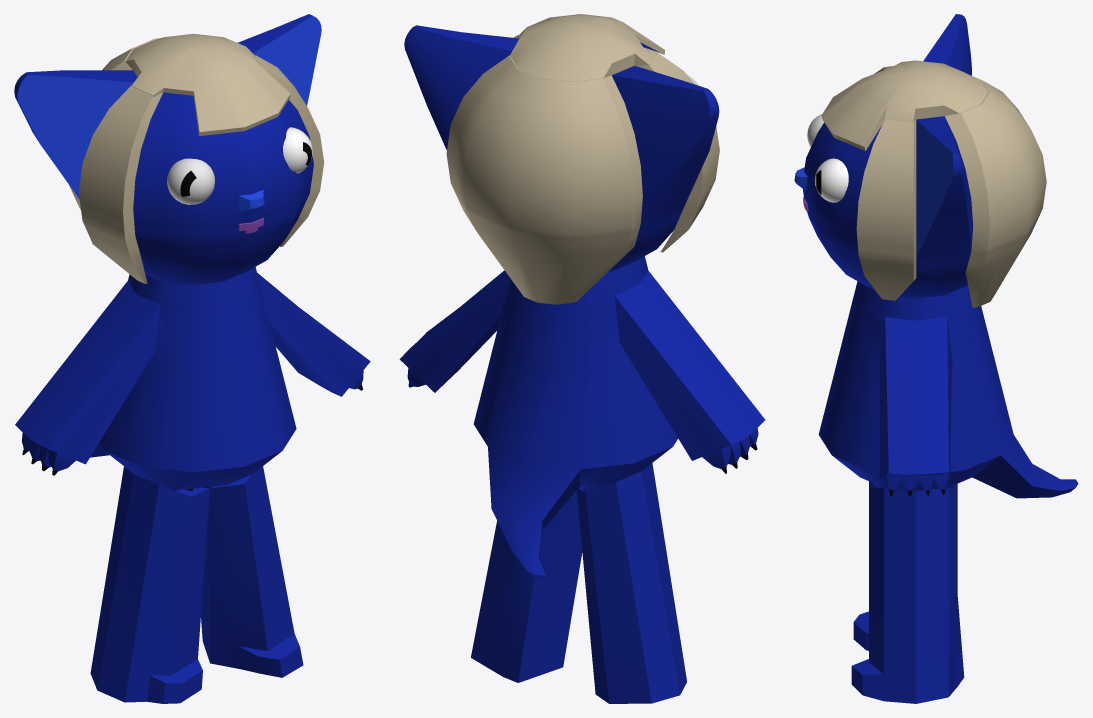
File: CAAT_mom2.fbx
The picture shows the model from 3 angles, left to right: view 1: azimuth 30°, elevation 25°; view 2: azimuth 150°, elevation 25°; view 3: azimuth 270°, elevation 25°; orthographic projection. The views are drawn at different scales.
Visible parts, largest first — view 1: cat; view 2: cat; view 3: cat.
Boxes of the visible parts, <box> form: cat: <box>14,14,370,703</box>; cat: <box>399,14,765,703</box>; cat: <box>794,14,1078,703</box>.
Bounding box in the file's own units: 381 × 703 × 305.
